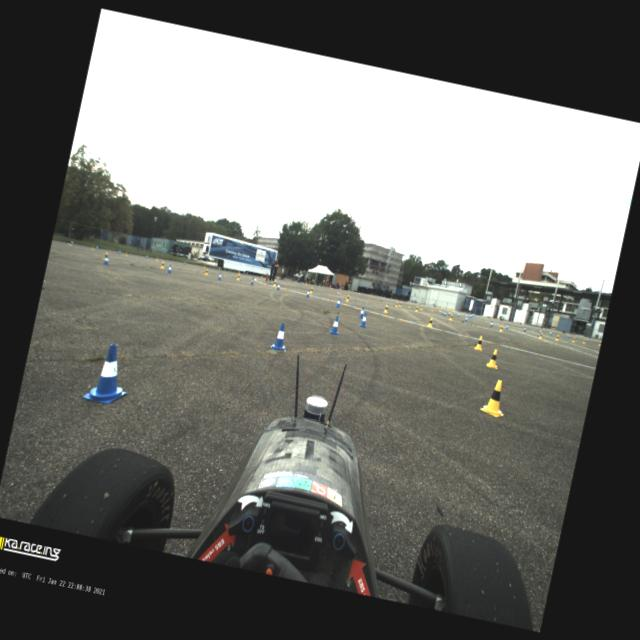blue_cone: (82, 339, 136, 408), (270, 321, 290, 353), (328, 314, 342, 334), (358, 312, 369, 328), (102, 254, 110, 266), (334, 297, 342, 308), (358, 306, 364, 318), (166, 264, 173, 274), (248, 276, 254, 286), (305, 289, 311, 298), (217, 272, 222, 280), (276, 282, 280, 290), (464, 316, 468, 322), (522, 326, 526, 332), (538, 328, 542, 334), (586, 336, 590, 342), (489, 321, 493, 326), (504, 324, 508, 329), (447, 310, 450, 316), (441, 310, 444, 315), (443, 311, 446, 316), (456, 312, 459, 317), (468, 313, 471, 318), (549, 330, 552, 335), (95, 245, 98, 250), (566, 334, 569, 338), (118, 250, 121, 254), (145, 254, 148, 258), (183, 261, 186, 264), (300, 280, 302, 284), (477, 314, 479, 318), (466, 314, 468, 318), (470, 314, 472, 318), (245, 272, 248, 274), (286, 279, 288, 282), (314, 283, 316, 286), (468, 312, 470, 315), (218, 268, 220, 270), (361, 292, 363, 294), (456, 310, 458, 312), (474, 314, 476, 316), (337, 287, 338, 290), (405, 299, 406, 302), (433, 305, 434, 308), (377, 295, 378, 297), (420, 302, 420, 305)
large_orange_cone: (338, 286, 342, 291), (328, 284, 330, 288)
yellow_cone: (480, 377, 510, 418), (485, 348, 501, 370), (474, 334, 484, 350), (426, 316, 434, 328), (382, 304, 388, 314), (159, 260, 165, 270), (498, 323, 504, 332), (203, 267, 209, 276), (344, 294, 350, 302), (308, 286, 314, 294), (538, 332, 544, 339), (414, 305, 419, 313), (448, 312, 453, 320), (554, 334, 559, 342), (272, 280, 276, 288), (236, 273, 240, 281), (102, 252, 106, 260), (394, 300, 398, 306), (407, 302, 411, 308), (398, 301, 402, 307), (419, 304, 423, 310), (90, 244, 94, 250), (571, 337, 575, 342), (582, 338, 586, 343), (124, 251, 128, 256), (431, 306, 434, 311), (155, 256, 158, 261), (439, 308, 442, 312), (598, 341, 600, 346), (70, 242, 72, 246), (203, 264, 205, 268), (238, 270, 240, 274), (260, 274, 262, 278), (275, 276, 277, 280), (347, 288, 349, 292), (304, 282, 306, 285), (318, 284, 320, 287), (407, 300, 409, 303), (444, 307, 446, 310), (447, 308, 449, 311), (330, 286, 332, 288), (370, 294, 372, 296), (382, 296, 384, 298), (395, 298, 397, 300), (449, 310, 451, 312), (358, 292, 359, 294)
